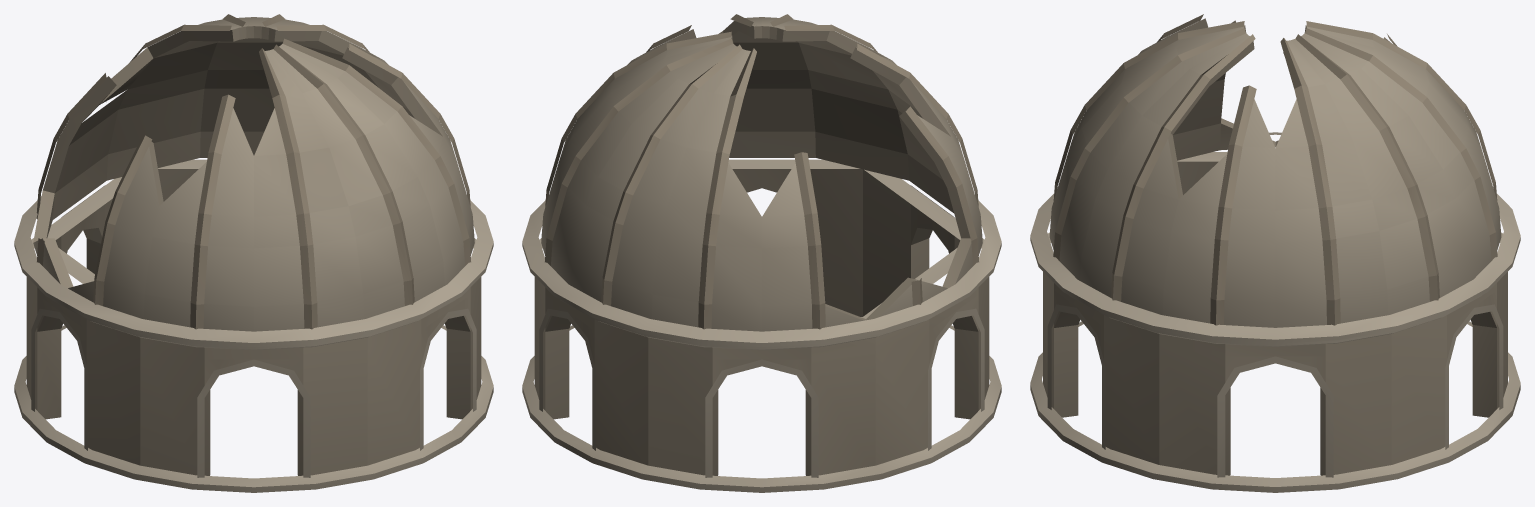
The model's file is dome.ruin_12.stone.glb.
3 renders of one model, left to right at view 1: azimuth 30°, elevation 25°; view 2: azimuth 150°, elevation 25°; view 3: azimuth 270°, elevation 25°, orthographic. The views are drawn at different scales.
Visible parts, largest first — view 1: dome_ruin_12_stone; view 2: dome_ruin_12_stone; view 3: dome_ruin_12_stone.
Part boxes in pixels (x1,y1,x2,y2): dome_ruin_12_stone: (14,14,493,492); dome_ruin_12_stone: (522,14,1001,492); dome_ruin_12_stone: (1030,14,1520,492).
Size of what is drawn, in the model's own units: 7.6 by 6.23 by 7.6.
